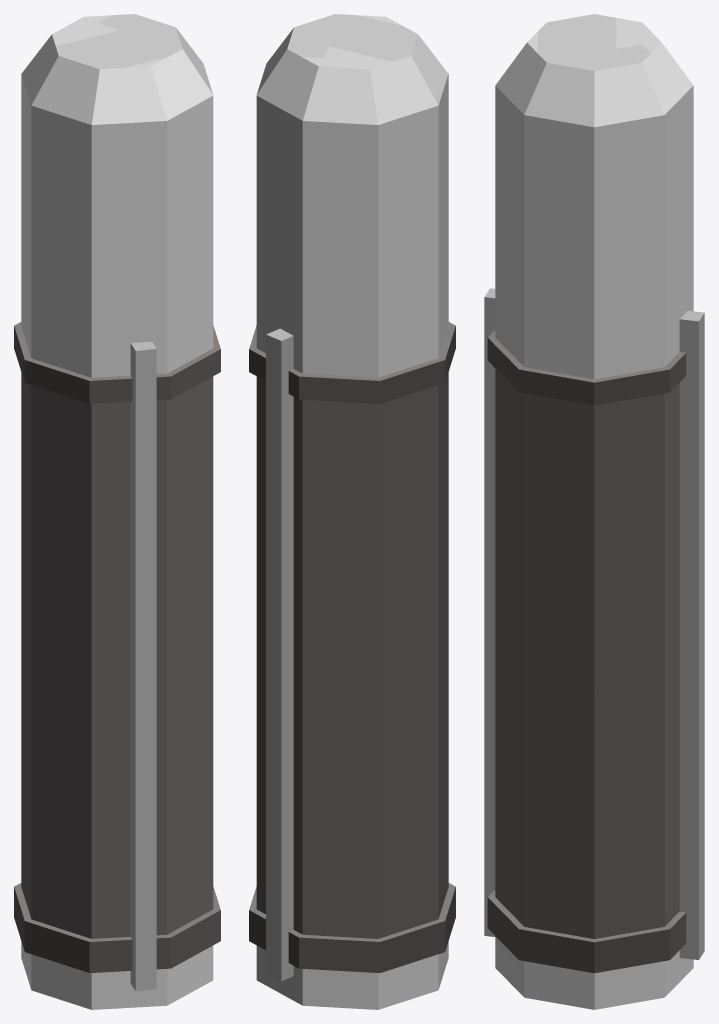
3 views of the same model, side by side, from view 1: azimuth 30°, elevation 25°; view 2: azimuth 150°, elevation 25°; view 3: azimuth 270°, elevation 25° (orthographic).
Parts seen in each view (by area): view 1: SM_Veh_Rocket_19; view 2: SM_Veh_Rocket_19; view 3: SM_Veh_Rocket_19.
Part boxes in pixels (x1,y1,x2,y2): SM_Veh_Rocket_19: [14, 14, 220, 1009]; SM_Veh_Rocket_19: [249, 14, 455, 1009]; SM_Veh_Rocket_19: [484, 14, 704, 1009].
Bounding box in the file's own units: 2.13 × 10.19 × 2.2.
1 material, 1 textured.
